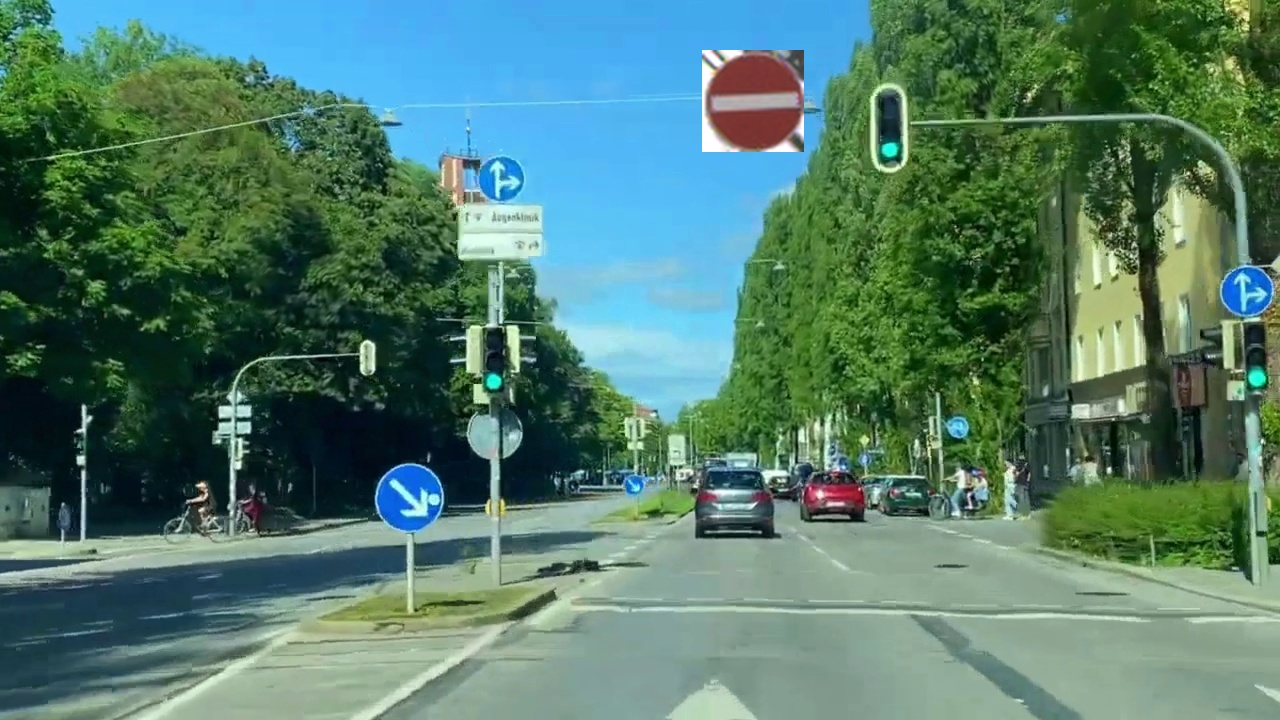No entry: (702, 50, 804, 152)
